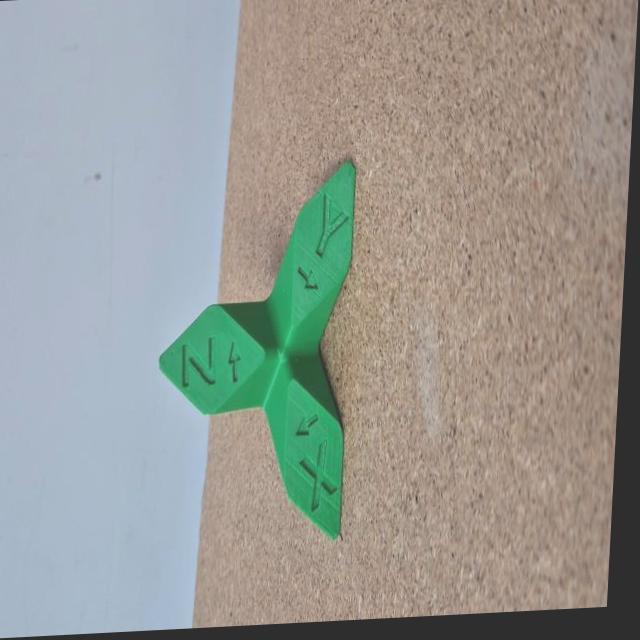eje: (145, 151, 365, 548)
